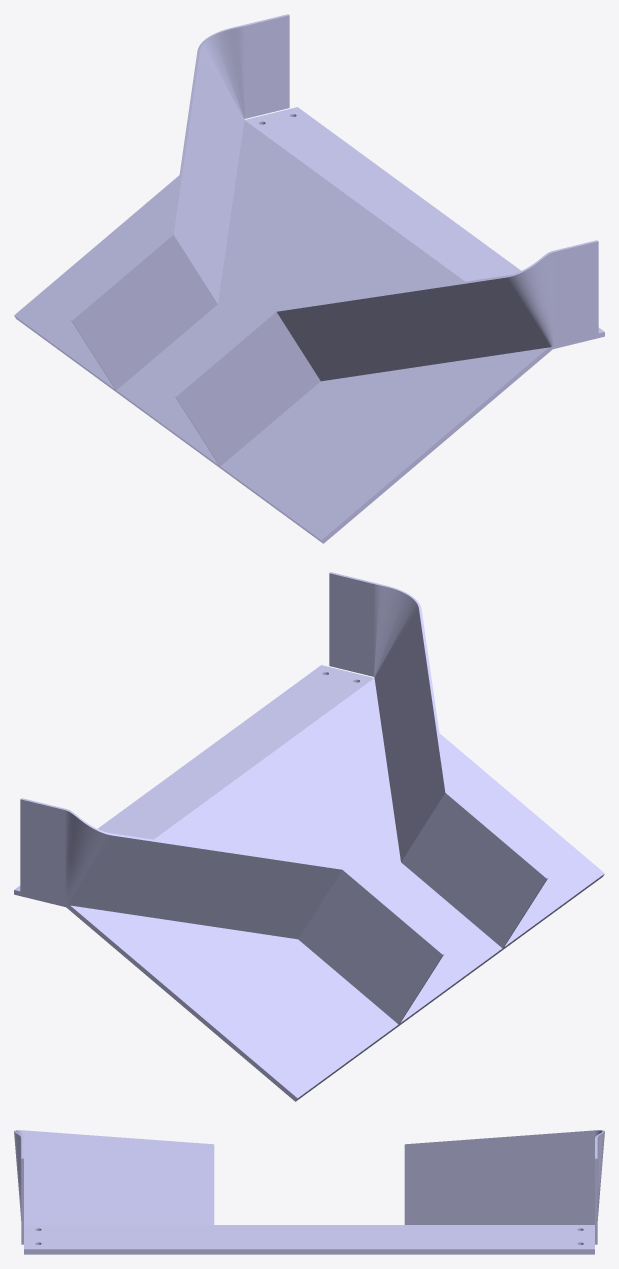
The picture shows the model from 3 angles, top to bottom: view 1: azimuth 30°, elevation 25°; view 2: azimuth 150°, elevation 25°; view 3: azimuth 270°, elevation 25°; orthographic projection. The views are drawn at different scales.
Visible parts, largest first — view 1: Part2; view 2: Part2; view 3: Part2.
Boxes of the visible parts, x1=… form: Part2: x1=14, y1=14, x2=604, y2=543; Part2: x1=14, y1=572, x2=604, y2=1101; Part2: x1=14, y1=1130, x2=604, y2=1254.
Bounding box in the file's own units: 370 × 621 × 255.
